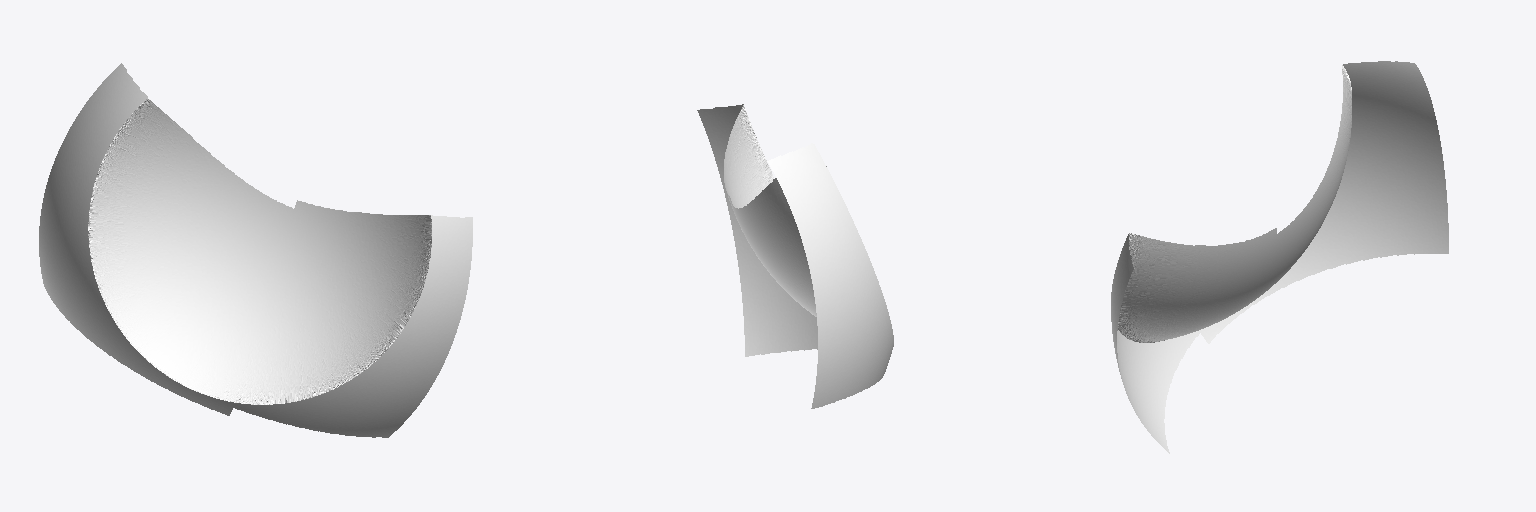
3 views of the same model, side by side, from view 1: azimuth 30°, elevation 25°; view 2: azimuth 150°, elevation 25°; view 3: azimuth 270°, elevation 25° (orthographic).
Parts seen in each view (by area): view 1: P00_102Rr; view 2: P00_102Rr; view 3: P00_102Rr.
Part boxes in pixels (bbox=[...]): P00_102Rr: bbox=[39, 63, 472, 437]; P00_102Rr: bbox=[697, 104, 893, 408]; P00_102Rr: bbox=[1111, 61, 1448, 453].
Bounding box in the file's own units: 8980 × 9558 × 9127.